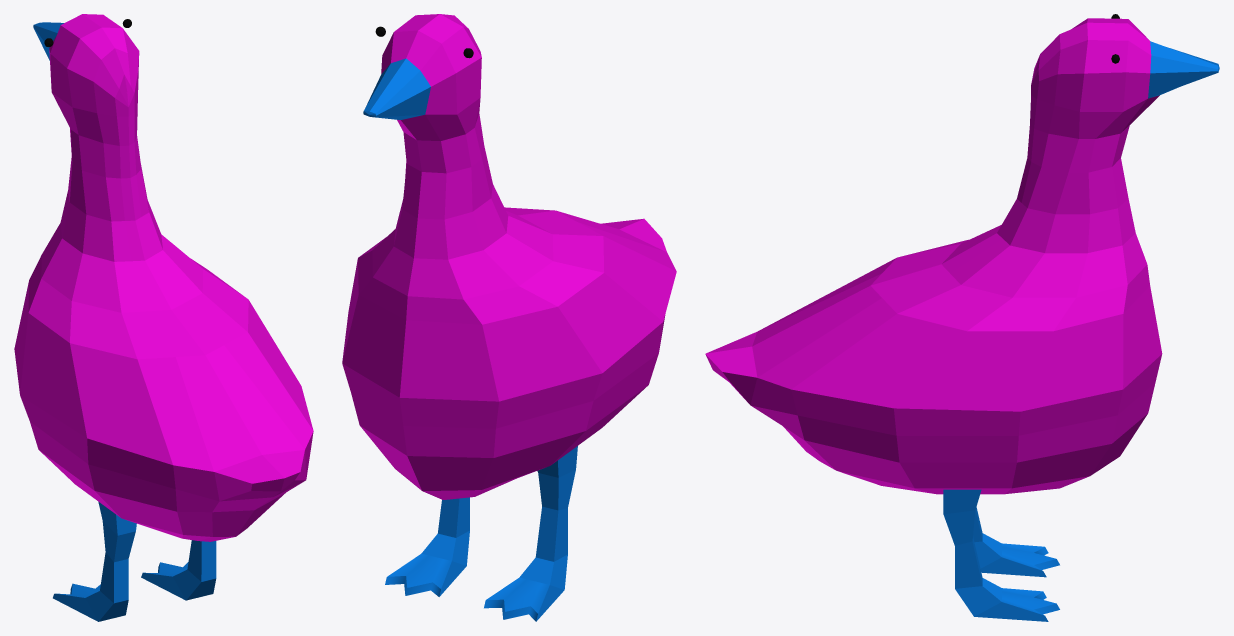
Rendered from goosey.fbx.
The picture shows the model from 3 angles, left to right: view 1: azimuth 30°, elevation 25°; view 2: azimuth 150°, elevation 25°; view 3: azimuth 270°, elevation 25°; orthographic projection. The views are drawn at different scales.
Parts seen in each view (by area): view 1: honker, leg1, leg2; view 2: honker, leg1, leg2; view 3: honker, leg2, leg1.
Boxes of the visible parts, x1,y1,x2,y2 form: honker: (14, 14, 313, 541); leg1: (53, 501, 136, 621); leg2: (141, 540, 216, 600); honker: (342, 14, 676, 499); leg1: (484, 446, 577, 621); leg2: (385, 497, 469, 596); honker: (705, 18, 1219, 494); leg2: (943, 489, 1059, 621); leg1: (973, 507, 1059, 577).
Size of the model in its own units: 4.67 by 10.62 by 8.76.
